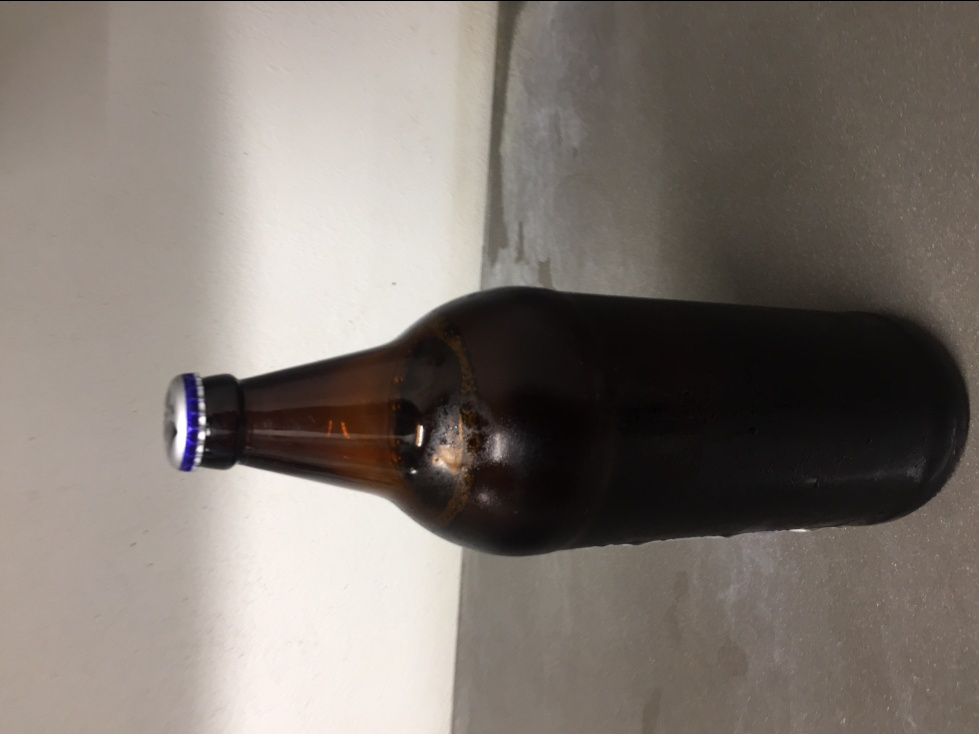tecateC: (160, 287, 966, 560)
